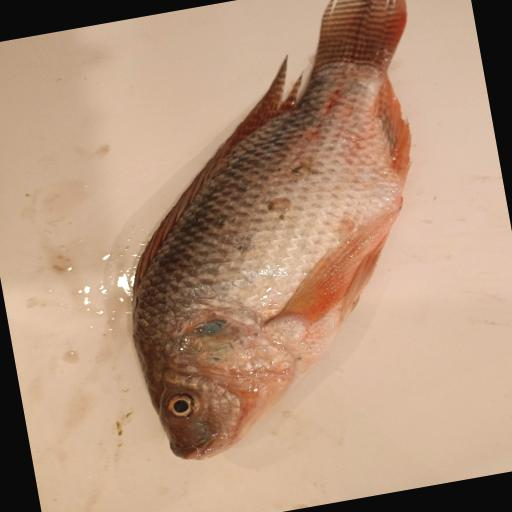Tilapia: (78, 0, 478, 467)
